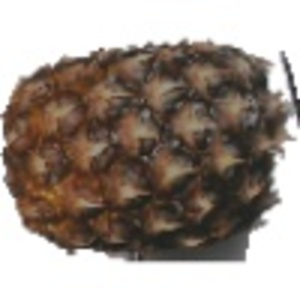abacaxi: (2, 36, 291, 252)
